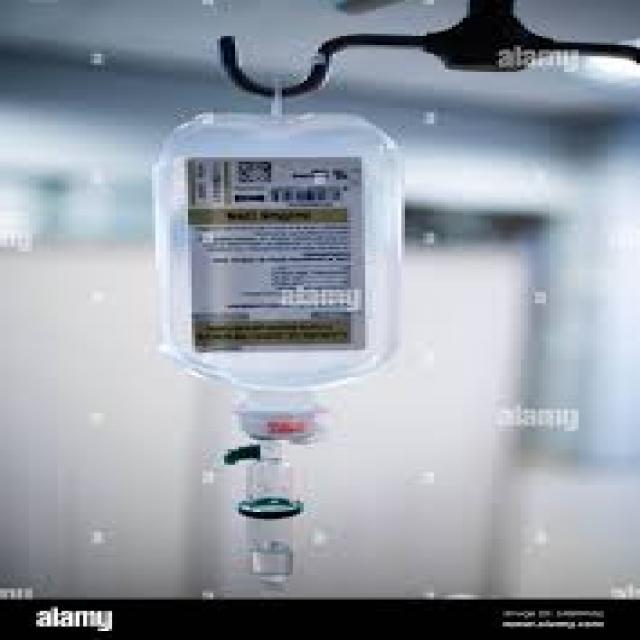iv_fluids: (135, 60, 419, 608)
